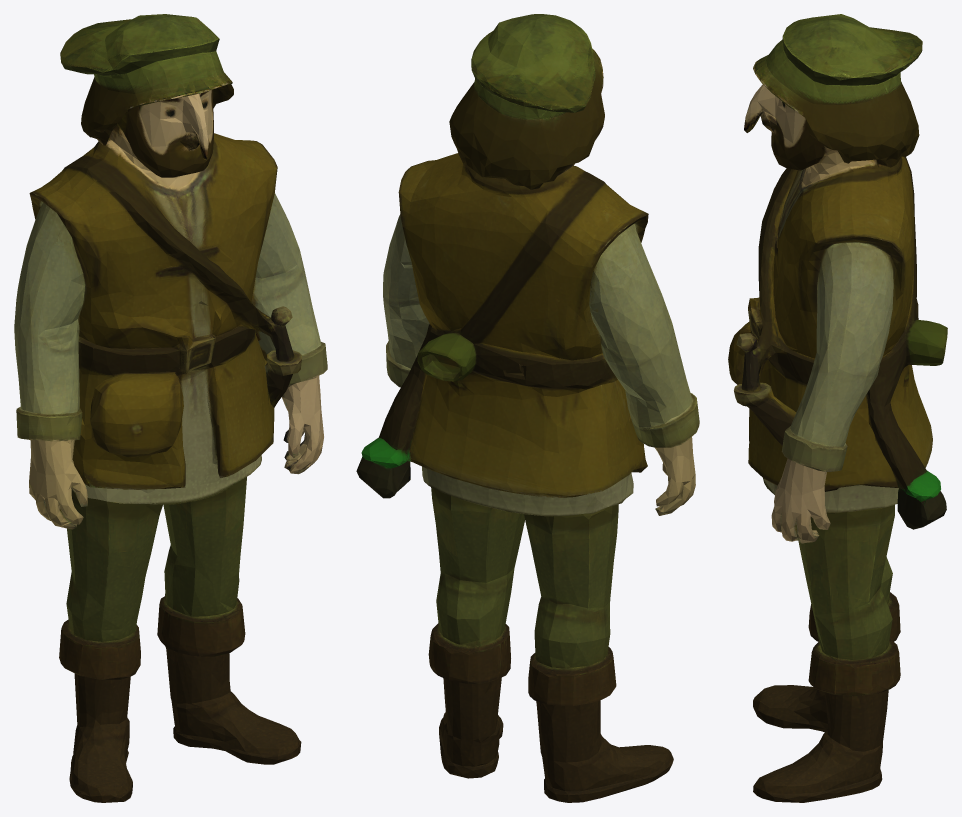
The model's file is Player.glb.
3 views of the same model, side by side, from view 1: azimuth 30°, elevation 25°; view 2: azimuth 150°, elevation 25°; view 3: azimuth 270°, elevation 25° (orthographic).
Parts seen in each view (by area): view 1: world; view 2: world; view 3: world.
Part boxes in pixels (left/top/right/bottom): world: left=14, top=14, right=327, bottom=802; world: left=356, top=14, right=699, bottom=802; world: left=728, top=14, right=947, bottom=802.
Size of the model in its own units: 0.4252 by 0.9969 by 0.2696.
1 material, 1 textured.
